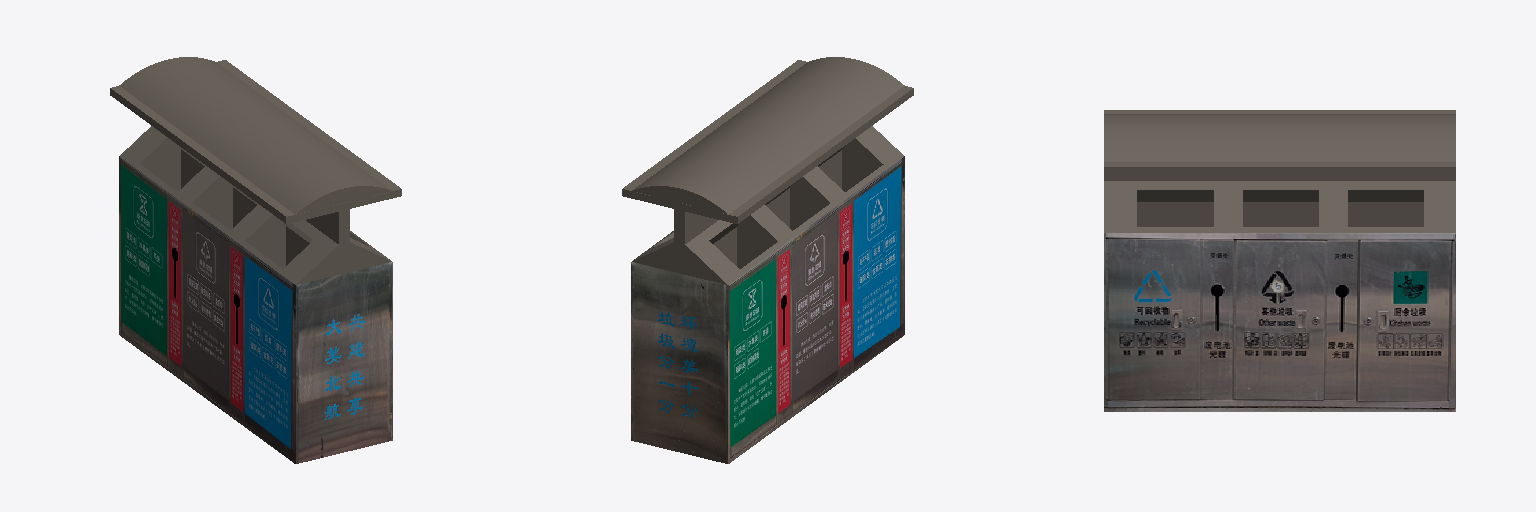
3 renders of one model, left to right at view 1: azimuth 30°, elevation 25°; view 2: azimuth 150°, elevation 25°; view 3: azimuth 270°, elevation 25°, orthographic.
Parts seen in each view (by area): view 1: 垃圾桶; view 2: 垃圾桶; view 3: 垃圾桶.
Boxes of the visible parts, x1=… form: 垃圾桶: x1=110, y1=57, x2=401, y2=463; 垃圾桶: x1=622, y1=57, x2=913, y2=463; 垃圾桶: x1=1104, y1=110, x2=1455, y2=411.
Bounding box in the file's own units: 0.7721 × 1.69 × 2.04.
Materials: 2 (1 with a texture image).